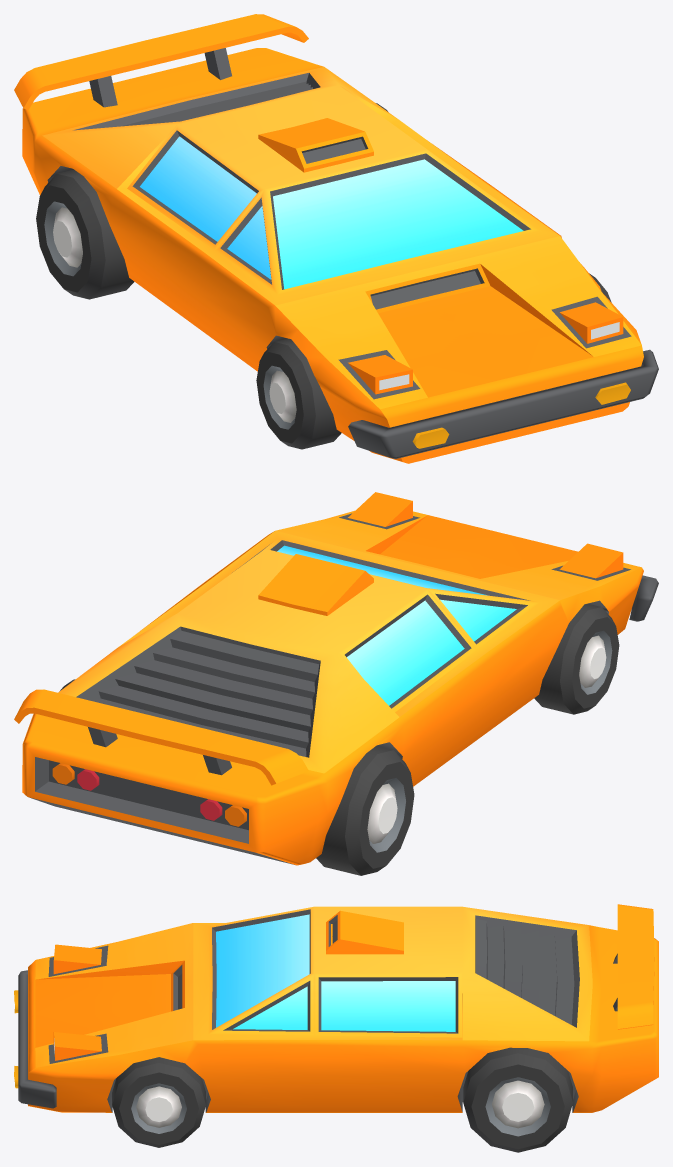
File: city2-car-17.glb
3 views of the same model, one above another, from view 1: azimuth 30°, elevation 25°; view 2: azimuth 150°, elevation 25°; view 3: azimuth 270°, elevation 25° (orthographic). The views are drawn at different scales.
Visible parts, largest first — view 1: Plane.120, Wheel_122, Wheel_121; view 2: Plane.120, Wheel_122, Wheel_121; view 3: Plane.120, Wheel_124, Wheel_123.
Boxes of the visible parts, x1,y1,x2,y2 form: Plane.120: (14,14,658,463); Wheel_122: (36,169,134,299); Wheel_121: (256,338,341,449); Plane.120: (14,492,658,865); Wheel_122: (316,746,414,875); Wheel_121: (534,603,619,714); Plane.120: (14,904,658,1112); Wheel_124: (463,1047,572,1152); Wheel_123: (112,1057,205,1147).
Bounding box in the file's own units: 2.39 × 1.37 × 4.85.
Materials: 2 (2 with a texture image).
